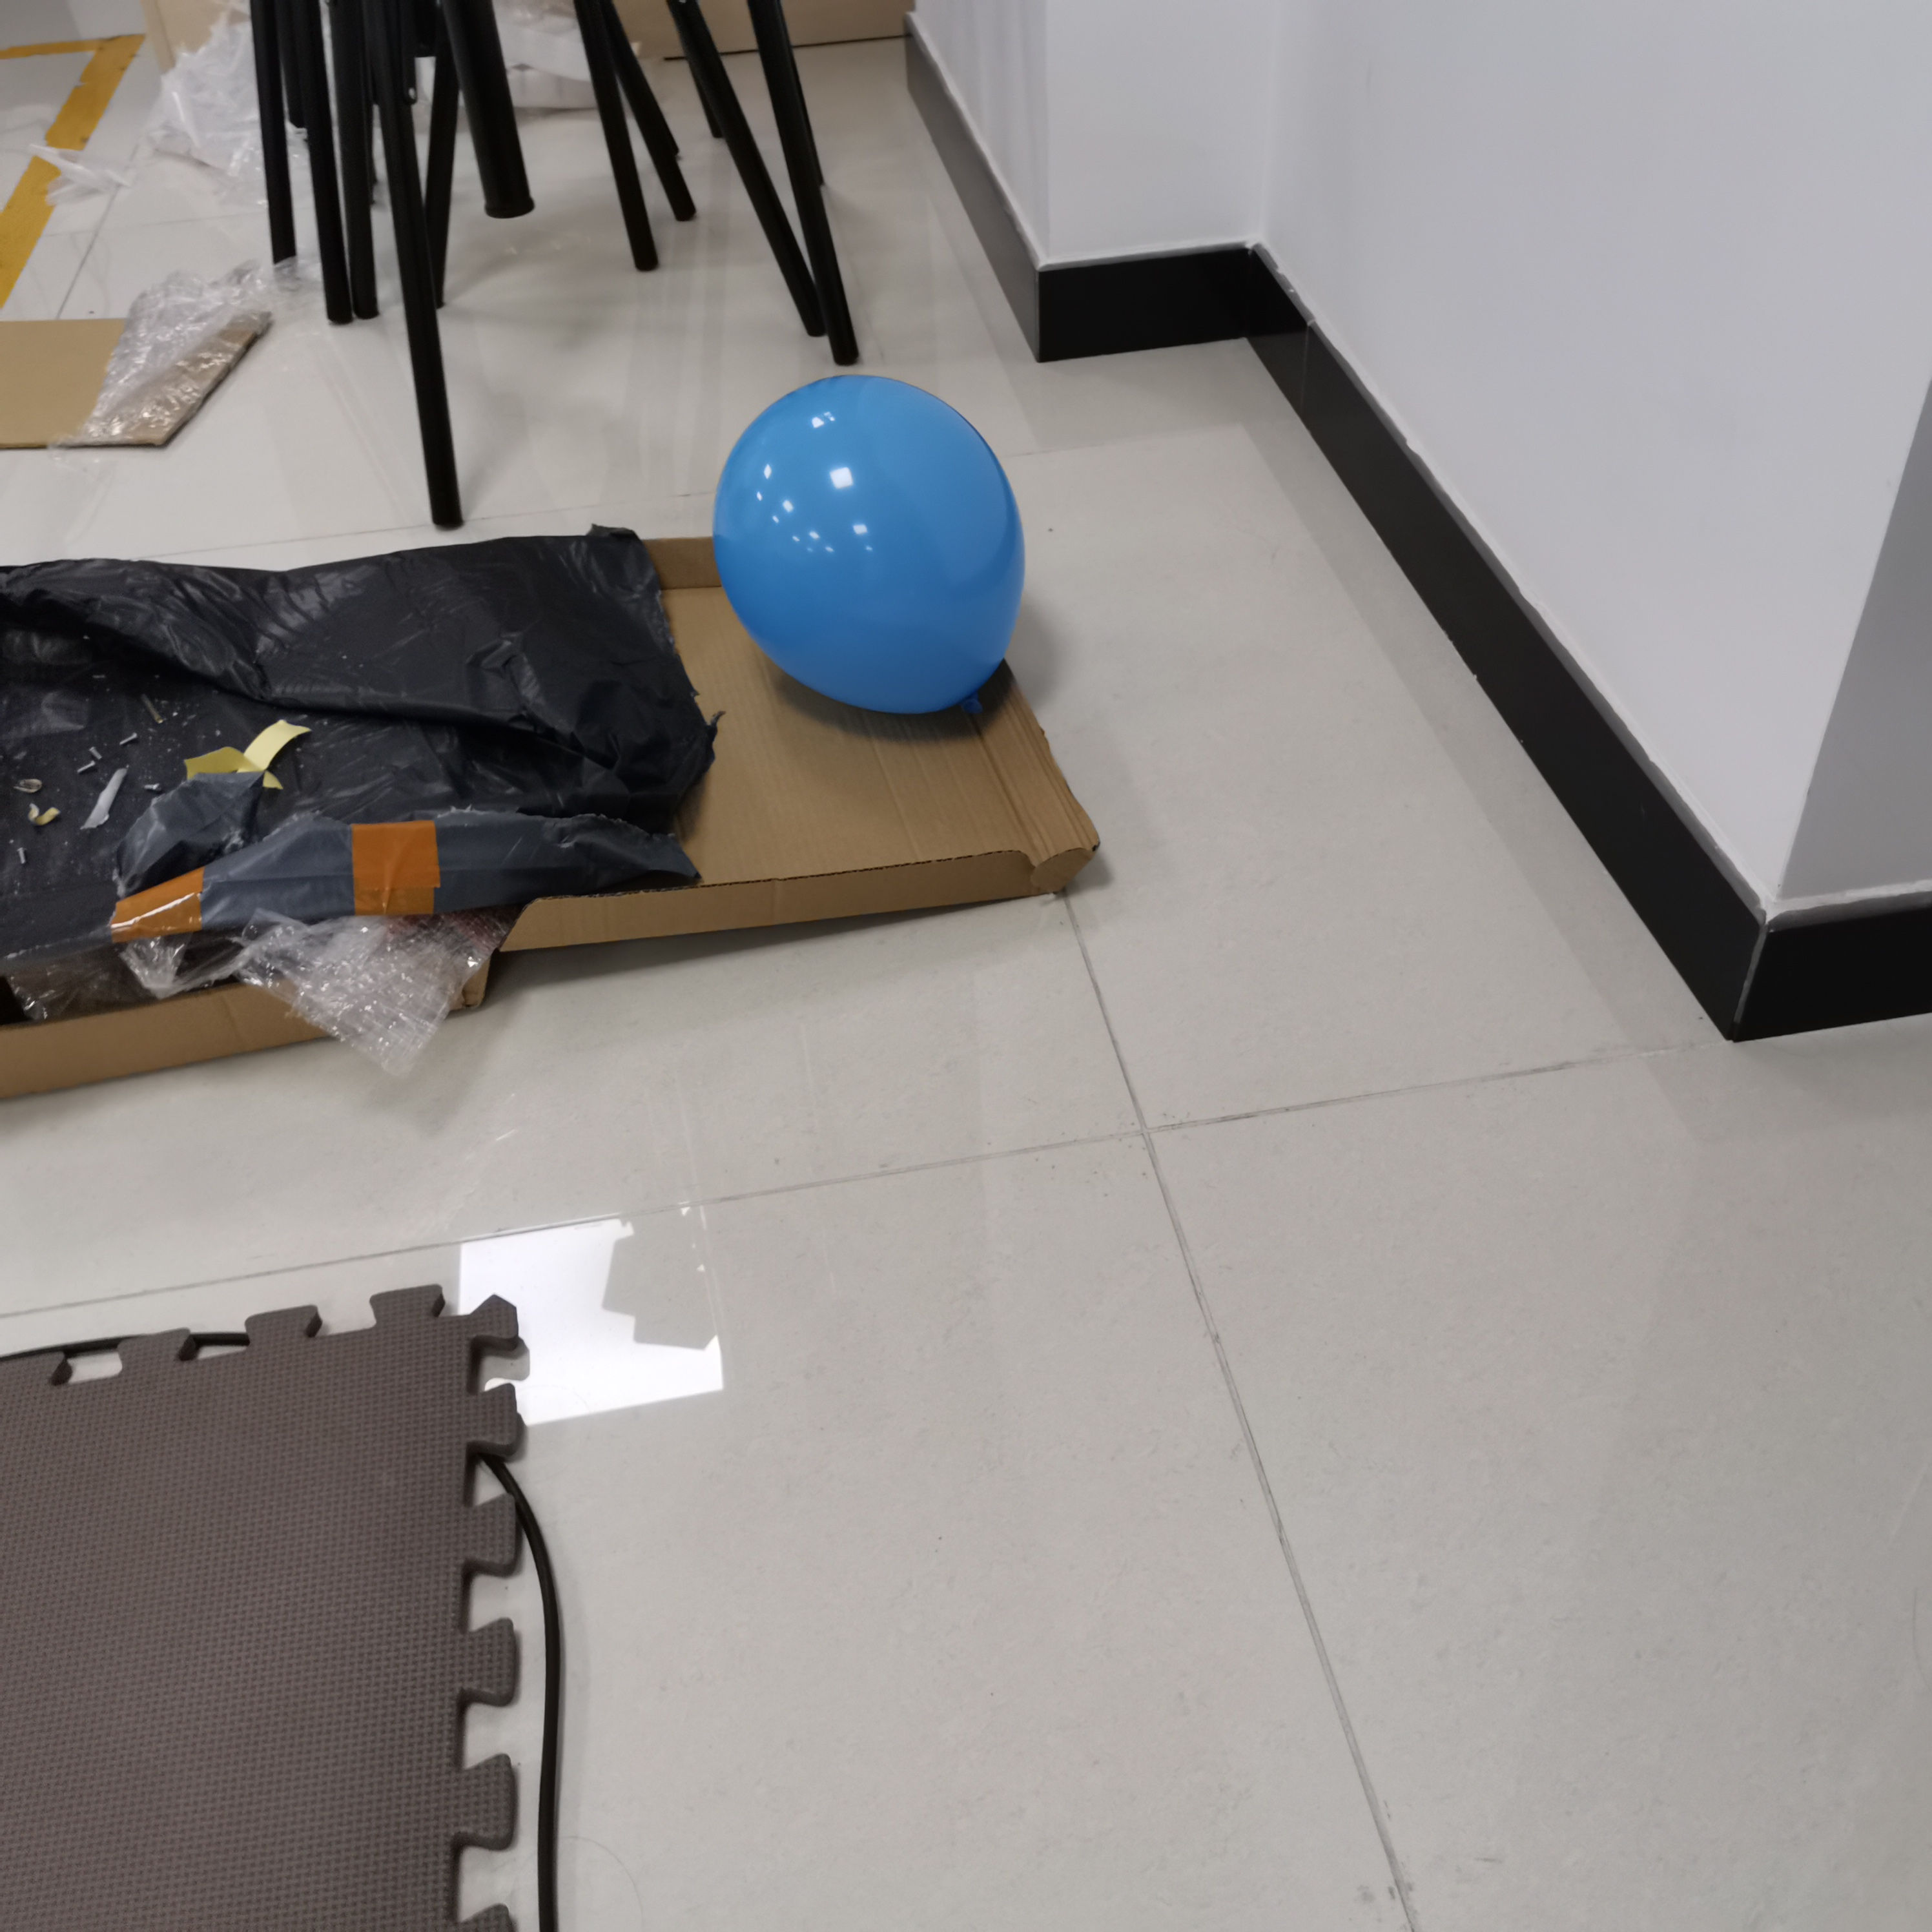balloon: (713, 377, 1023, 717)
